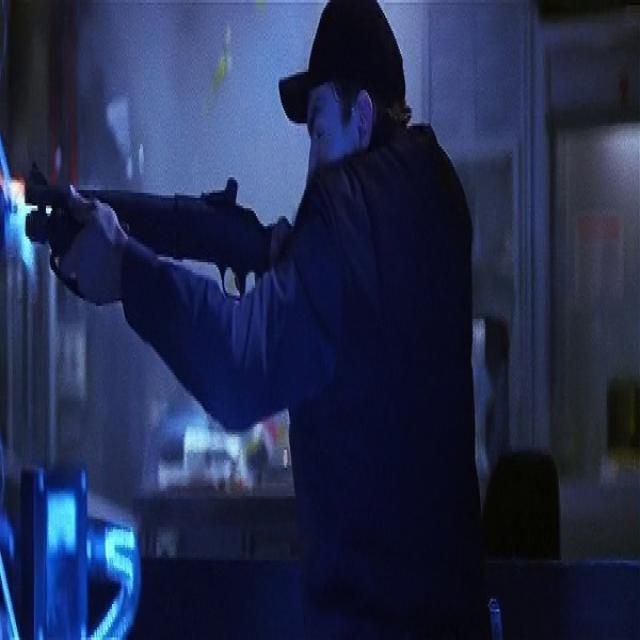rifle: (25, 153, 289, 303)
